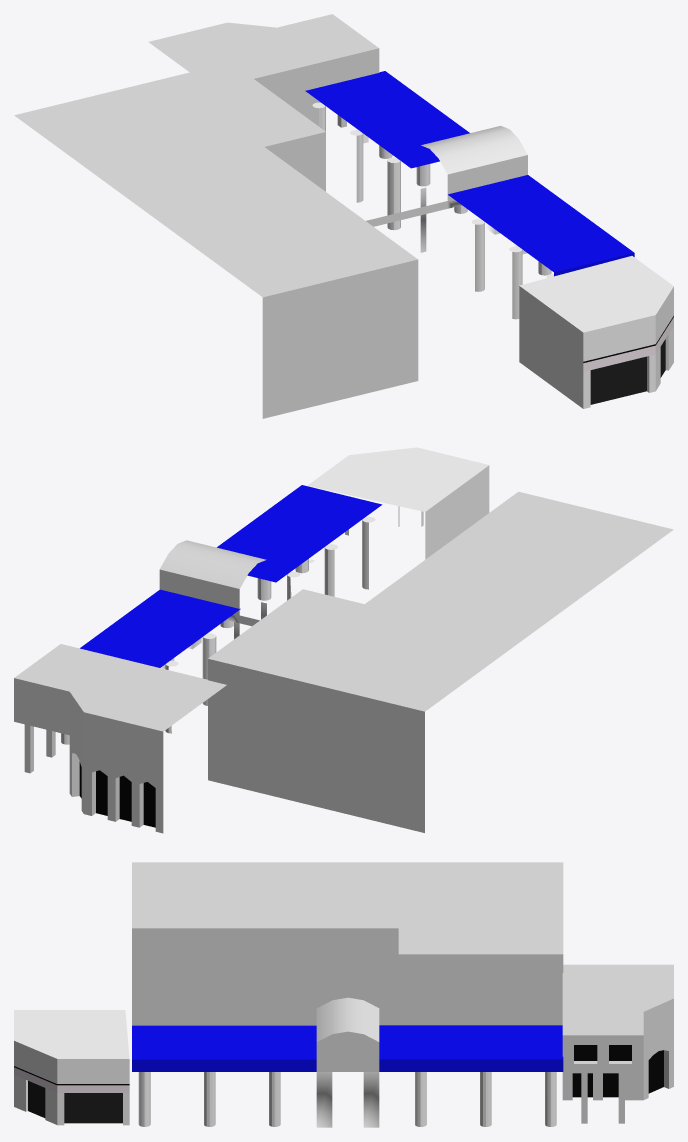
File: Edificio-3-Izquierda.glb
The picture shows the model from 3 angles, top to bottom: view 1: azimuth 30°, elevation 25°; view 2: azimuth 150°, elevation 25°; view 3: azimuth 270°, elevation 25°; orthographic projection. The views are drawn at different scales.
Parts seen in each view (by area): view 1: Fondo, Plane, Plane2, Techo1, Techo2, GaleriaCentral, ColumnasCilindricas; view 2: Fondo, Plane2, Plane, Techo1, Techo2, GaleriaCentral, ColumnasCilindricas; view 3: Fondo, Plane2, Plane, Techo1, Techo2, GaleriaCentral, ColumnasCilindricas, ColumnasCentrales.
Part boxes in pixels (x1,y1,x2,y2): Fondo: (14,62,418,418); Plane: (519,256,673,408); Plane2: (148,14,379,143); Techo1: (448,175,634,276); Techo2: (305,71,469,168); GaleriaCentral: (366,126,527,226); ColumnasCilindricas: (312,102,553,319); Fondo: (208,491,673,832); Plane2: (14,644,226,833); Plane: (308,447,489,562); Techo1: (217,485,382,582); Techo2: (80,589,240,667); GaleriaCentral: (159,540,266,626); ColumnasCilindricas: (61,516,375,744); Fondo: (132,862,563,1025); Plane2: (562,964,673,1123); Plane: (14,1010,129,1125); Techo1: (132,1025,316,1071); Techo2: (379,1025,563,1071); GaleriaCentral: (316,997,379,1071); ColumnasCilindricas: (138,1072,556,1126); ColumnasCentrales: (316,1072,379,1127).
Bounding box in the file's own units: 53.46 × 17.1 × 94.78.
